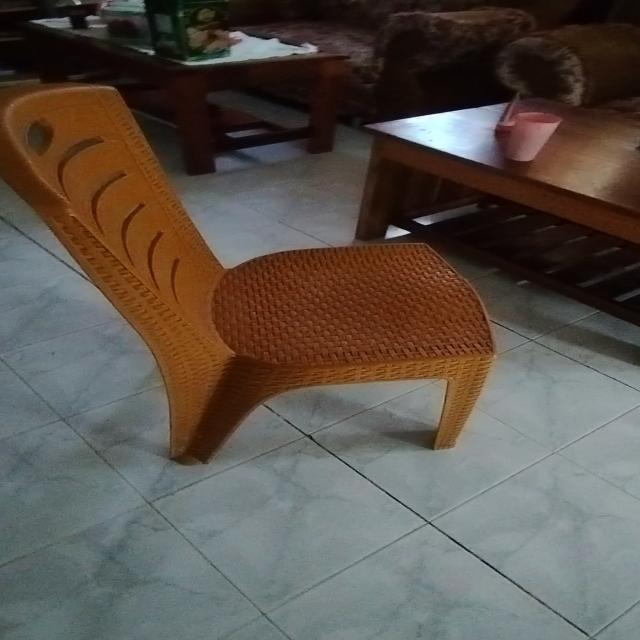chair: (2, 79, 521, 547)
